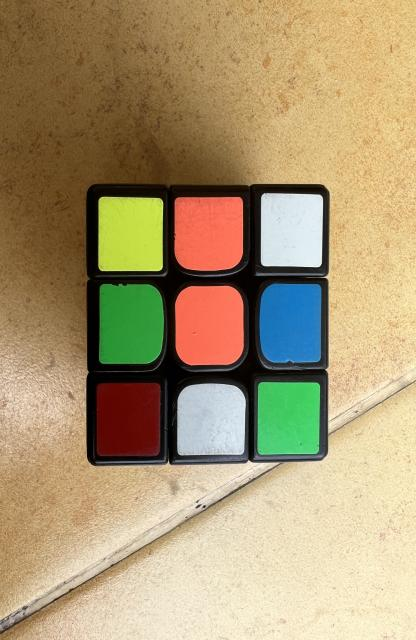Blue: (259, 284, 322, 362)
Green: (99, 284, 164, 364), (258, 382, 321, 455)
Orange: (176, 286, 244, 365), (174, 196, 244, 271)
Red: (96, 382, 160, 456)
White: (177, 384, 246, 456), (261, 192, 323, 268)
Yellow: (99, 196, 164, 271)
